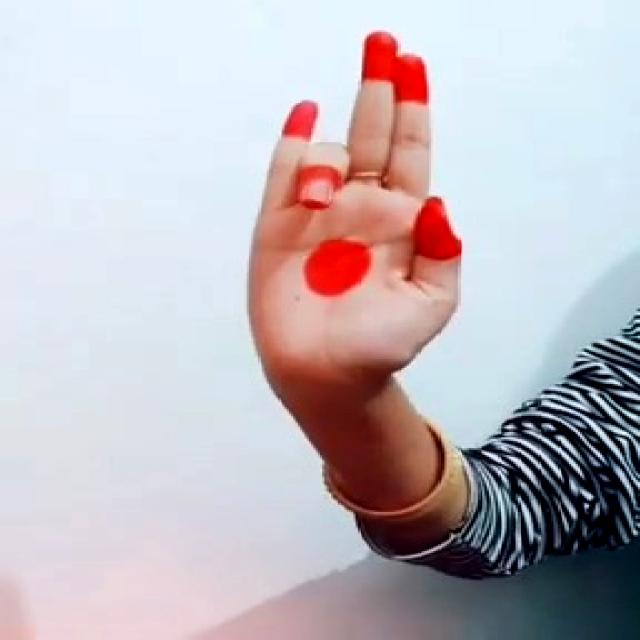Tripataka: (236, 16, 482, 396)
bangle: (311, 430, 484, 532)
